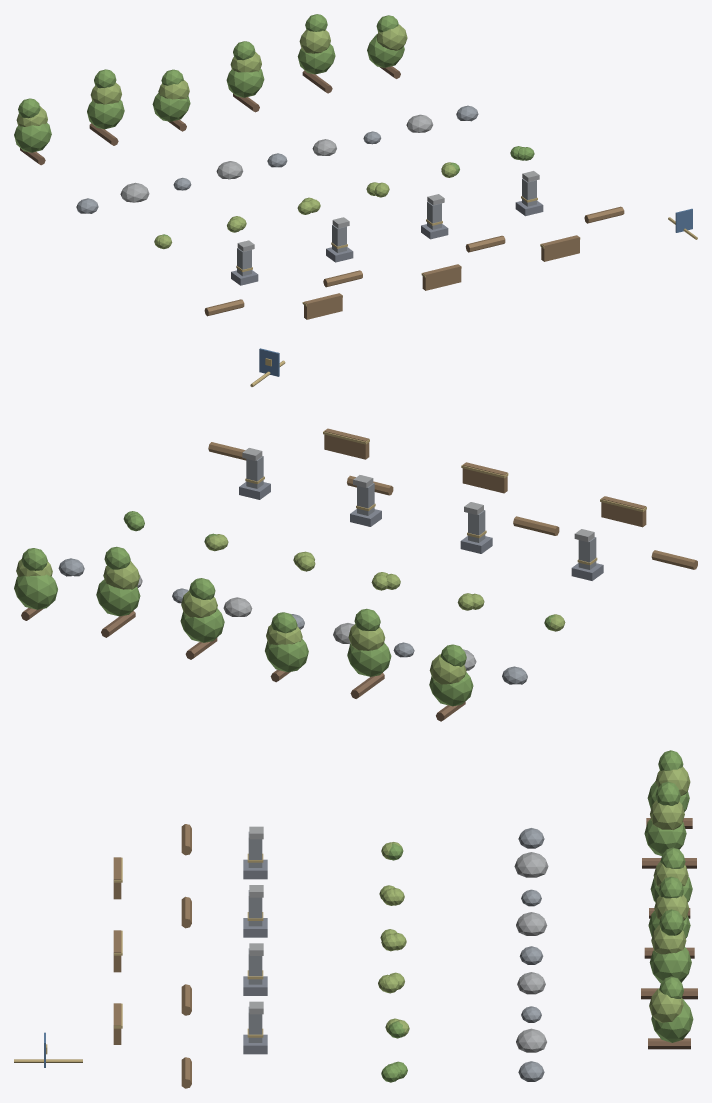
The model's file is AURENTHAL_Stylized_Environment_Props.glb.
The picture shows the model from 3 angles, top to bottom: view 1: azimuth 30°, elevation 25°; view 2: azimuth 150°, elevation 25°; view 3: azimuth 270°, elevation 25°; orthographic projection. The views are drawn at different scales.
Visible parts, largest first — view 1: Tree_01_Canopy_1, Tree_02_Canopy_1, Tree_04_Canopy_1, Tree_03_Canopy_1, Battle_Barricade_2_Wood, Battle_Barricade_1_Wood, Battle_Barricade_3_Wood, Tree_05_Canopy_1, Tree_06_Canopy_1, Tree_05_Canopy_2, Tree_06_Canopy_2, Tree_02_Canopy_2; view 2: Tree_06_Canopy_1, Tree_05_Canopy_1, Tree_03_Canopy_1, Tree_02_Canopy_1, Tree_04_Canopy_1, Tree_01_Canopy_1, Battle_Barricade_2_Wood, Battle_Barricade_3_Wood, Battle_Barricade_1_Wood, Tree_05_Canopy_2, Tree_01_Canopy_2, Tree_02_Canopy_2 (+1 smaller); view 3: Tree_05_Canopy_1, Tree_02_Canopy_1, Tree_06_Canopy_1, Tree_06_Canopy_2, Tree_02_Canopy_2, Tree_05_Canopy_2, Rock_02, Rock_08, Rock_04, Tree_01_Canopy_2, Tree_04_Canopy_2, Tree_05_Canopy_3.
Part boxes in pixels (box(x1,y1,x2,y2)): Tree_01_Canopy_1: box(14, 123, 51, 152); Tree_02_Canopy_1: box(87, 100, 124, 129); Tree_04_Canopy_1: box(226, 68, 264, 97); Tree_03_Canopy_1: box(152, 93, 190, 121); Battle_Barricade_2_Wood: box(422, 264, 461, 290); Battle_Barricade_1_Wood: box(304, 293, 342, 319); Battle_Barricade_3_Wood: box(541, 235, 579, 261); Tree_05_Canopy_1: box(297, 44, 335, 74); Tree_06_Canopy_1: box(367, 34, 404, 67); Tree_05_Canopy_2: box(299, 30, 330, 53); Tree_06_Canopy_2: box(376, 24, 407, 50); Tree_02_Canopy_2: box(90, 82, 121, 104); Tree_06_Canopy_1: box(14, 574, 57, 609); Tree_05_Canopy_1: box(96, 579, 140, 616); Tree_03_Canopy_1: box(265, 638, 308, 672); Tree_02_Canopy_1: box(347, 642, 391, 676); Tree_04_Canopy_1: box(180, 608, 224, 642); Tree_01_Canopy_1: box(429, 672, 473, 706); Battle_Barricade_2_Wood: box(462, 462, 507, 493); Battle_Barricade_3_Wood: box(324, 428, 369, 459); Battle_Barricade_1_Wood: box(601, 496, 646, 527); Tree_05_Canopy_2: box(103, 561, 139, 589); Tree_01_Canopy_2: box(429, 654, 466, 684); Tree_02_Canopy_2: box(348, 624, 385, 650); Tree_05_Canopy_1: box(649, 946, 691, 983); Tree_02_Canopy_1: box(644, 818, 686, 855); Tree_06_Canopy_1: box(651, 998, 693, 1042); Tree_06_Canopy_2: box(649, 988, 683, 1022); Tree_02_Canopy_2: box(650, 800, 684, 829); Tree_05_Canopy_2: box(651, 924, 686, 954); Rock_02: box(514, 852, 548, 877); Rock_08: box(516, 1028, 546, 1052); Rock_04: box(516, 912, 547, 935); Tree_01_Canopy_2: box(655, 766, 690, 795); Tree_04_Canopy_2: box(654, 895, 689, 920); Tree_05_Canopy_3: box(659, 909, 684, 935).
Bounding box in the file's own units: 18.1 × 3.53 × 19.82.
